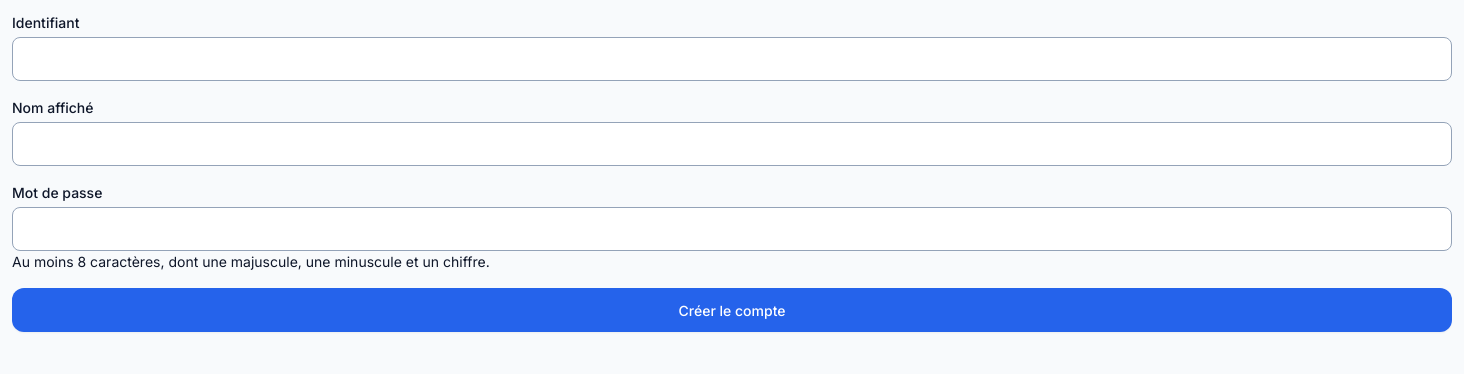
SignUpForm › shows a taken username under the username field, not as a top-level alert
This screenshot has width=1464, height=374.
Type "nouvel-operateur" into the field labelled "Identifiant". click: (732, 59)
box: top-left (12, 37), bottom-right (1452, 81)
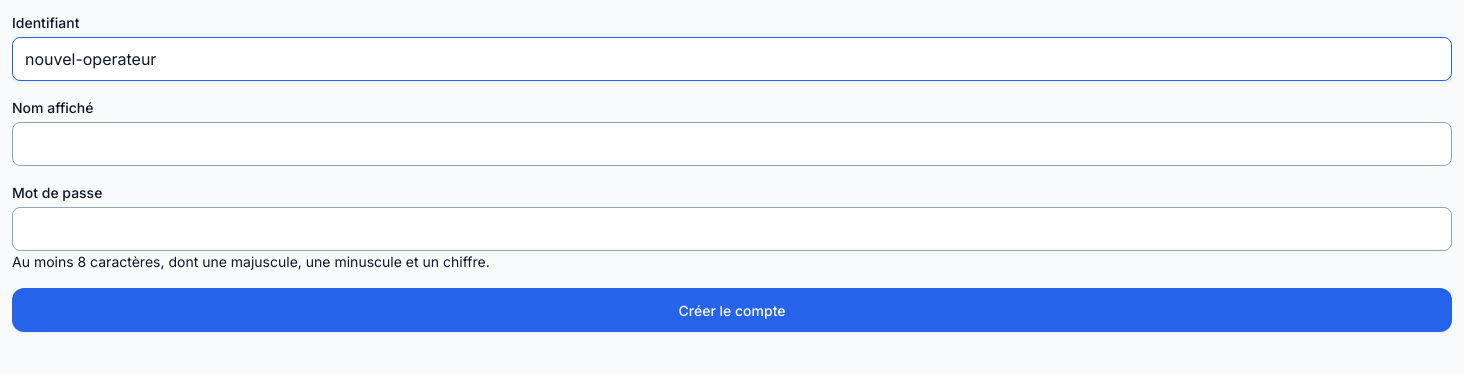
Type "Nouvel opérateur" into the field labelled "Nom affiché". click: (732, 144)
box: top-left (12, 122), bottom-right (1452, 166)
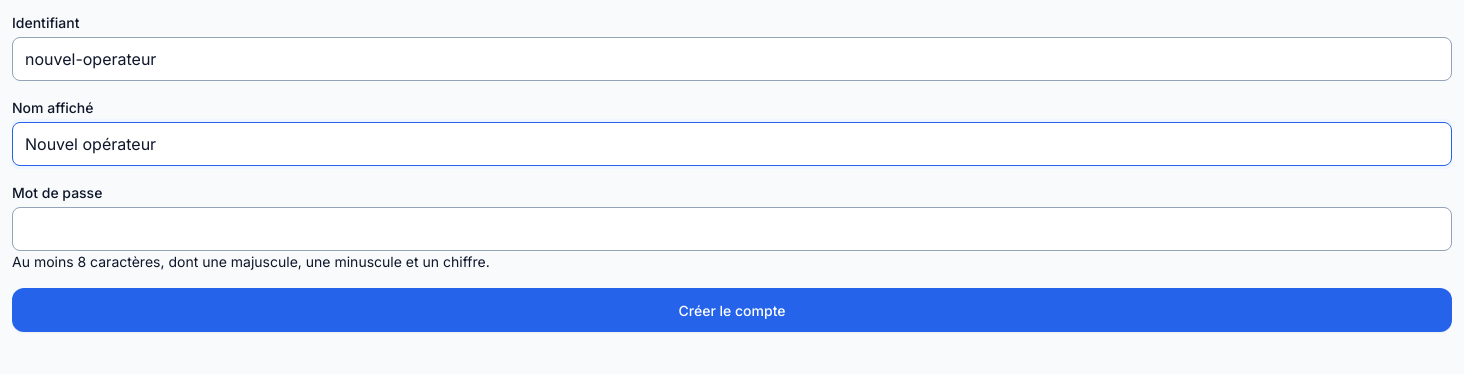
Type "Reception2026" into the password field labelled "Mot de passe". click: (732, 229)
box: top-left (12, 207), bottom-right (1452, 251)
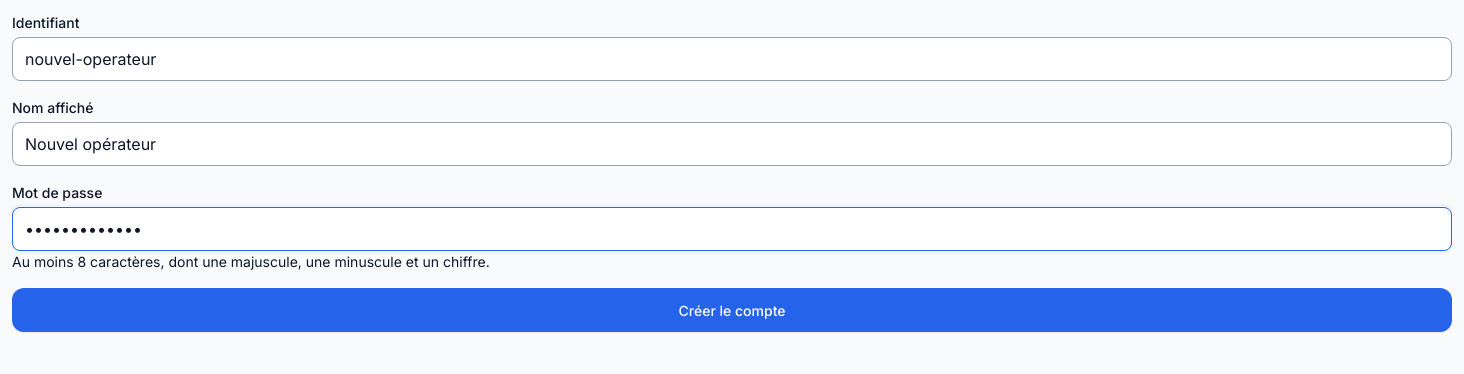
Click the button "Créer le compte". click: click(732, 310)
box: top-left (12, 288), bottom-right (1452, 332)
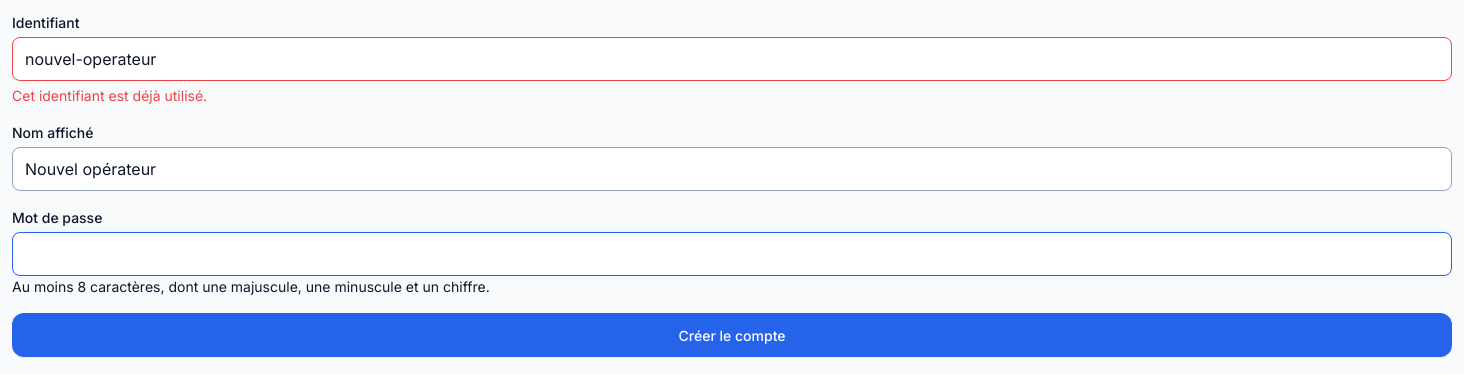
Check: the text "Cet identifiant est déjà utilisé." is shown, box top-left (12, 87), bottom-right (207, 104)
